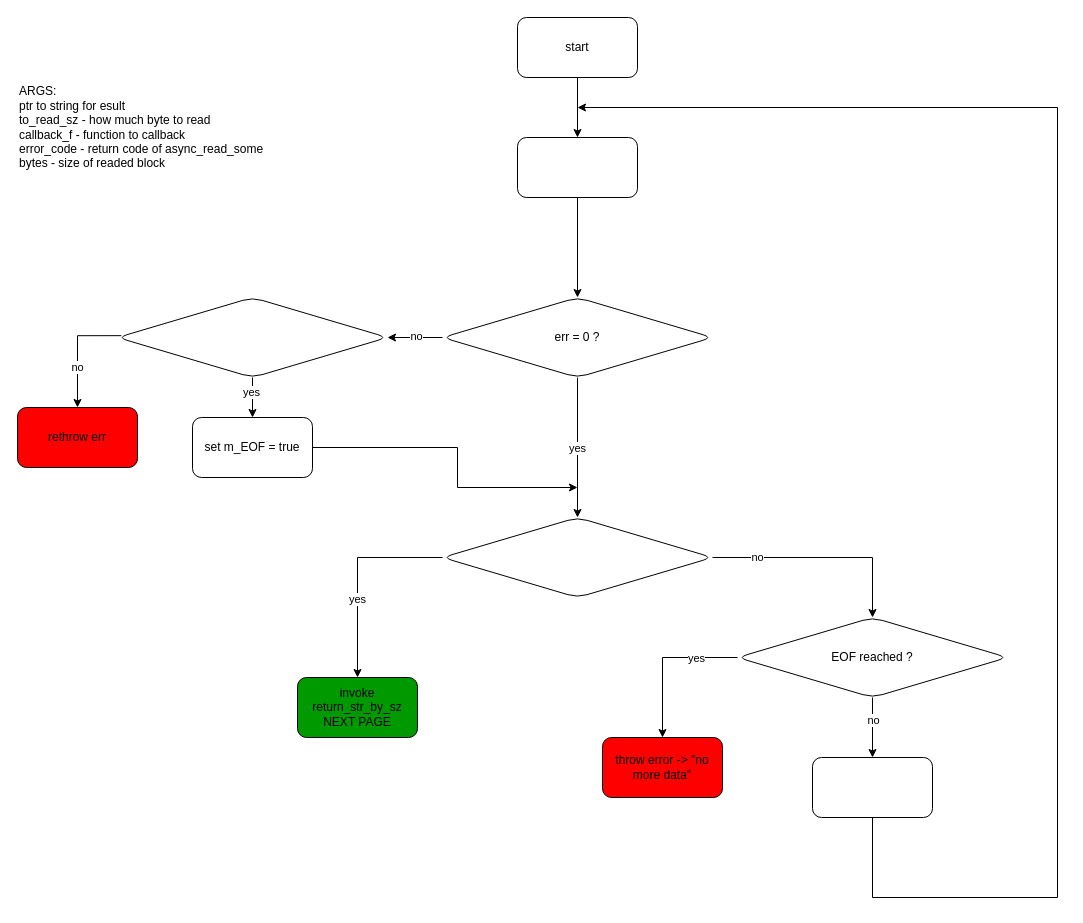
Image size: 1083x923. Some labels were removed from this diagram. The shapes that lost their labels are listed below. From the top down, each one's centre as x and y in pixels, then its label:
the point at 577,167: Move ins_pos to + readed size
the point at 252,337: err = EOF
the point at 577,557: m_to_read_size <= unreaded_size()
the point at 872,787: read new part of data from socket
